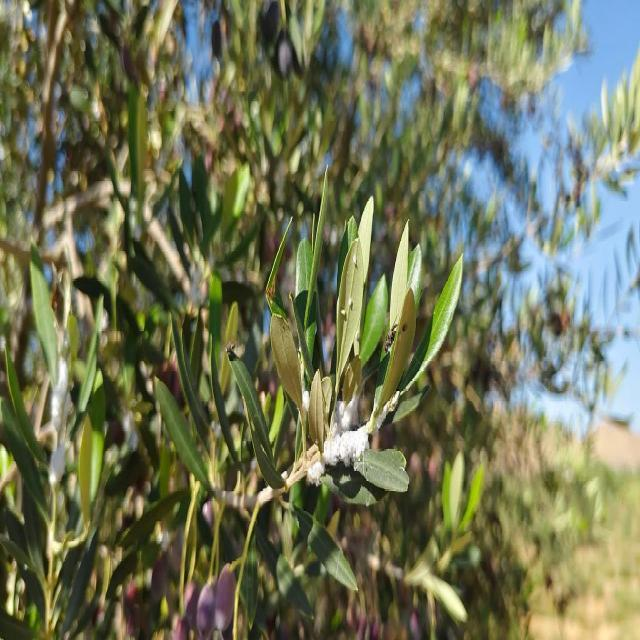Psyllid: (308, 394, 370, 484), (336, 236, 364, 374), (367, 380, 405, 433), (298, 374, 310, 424)
